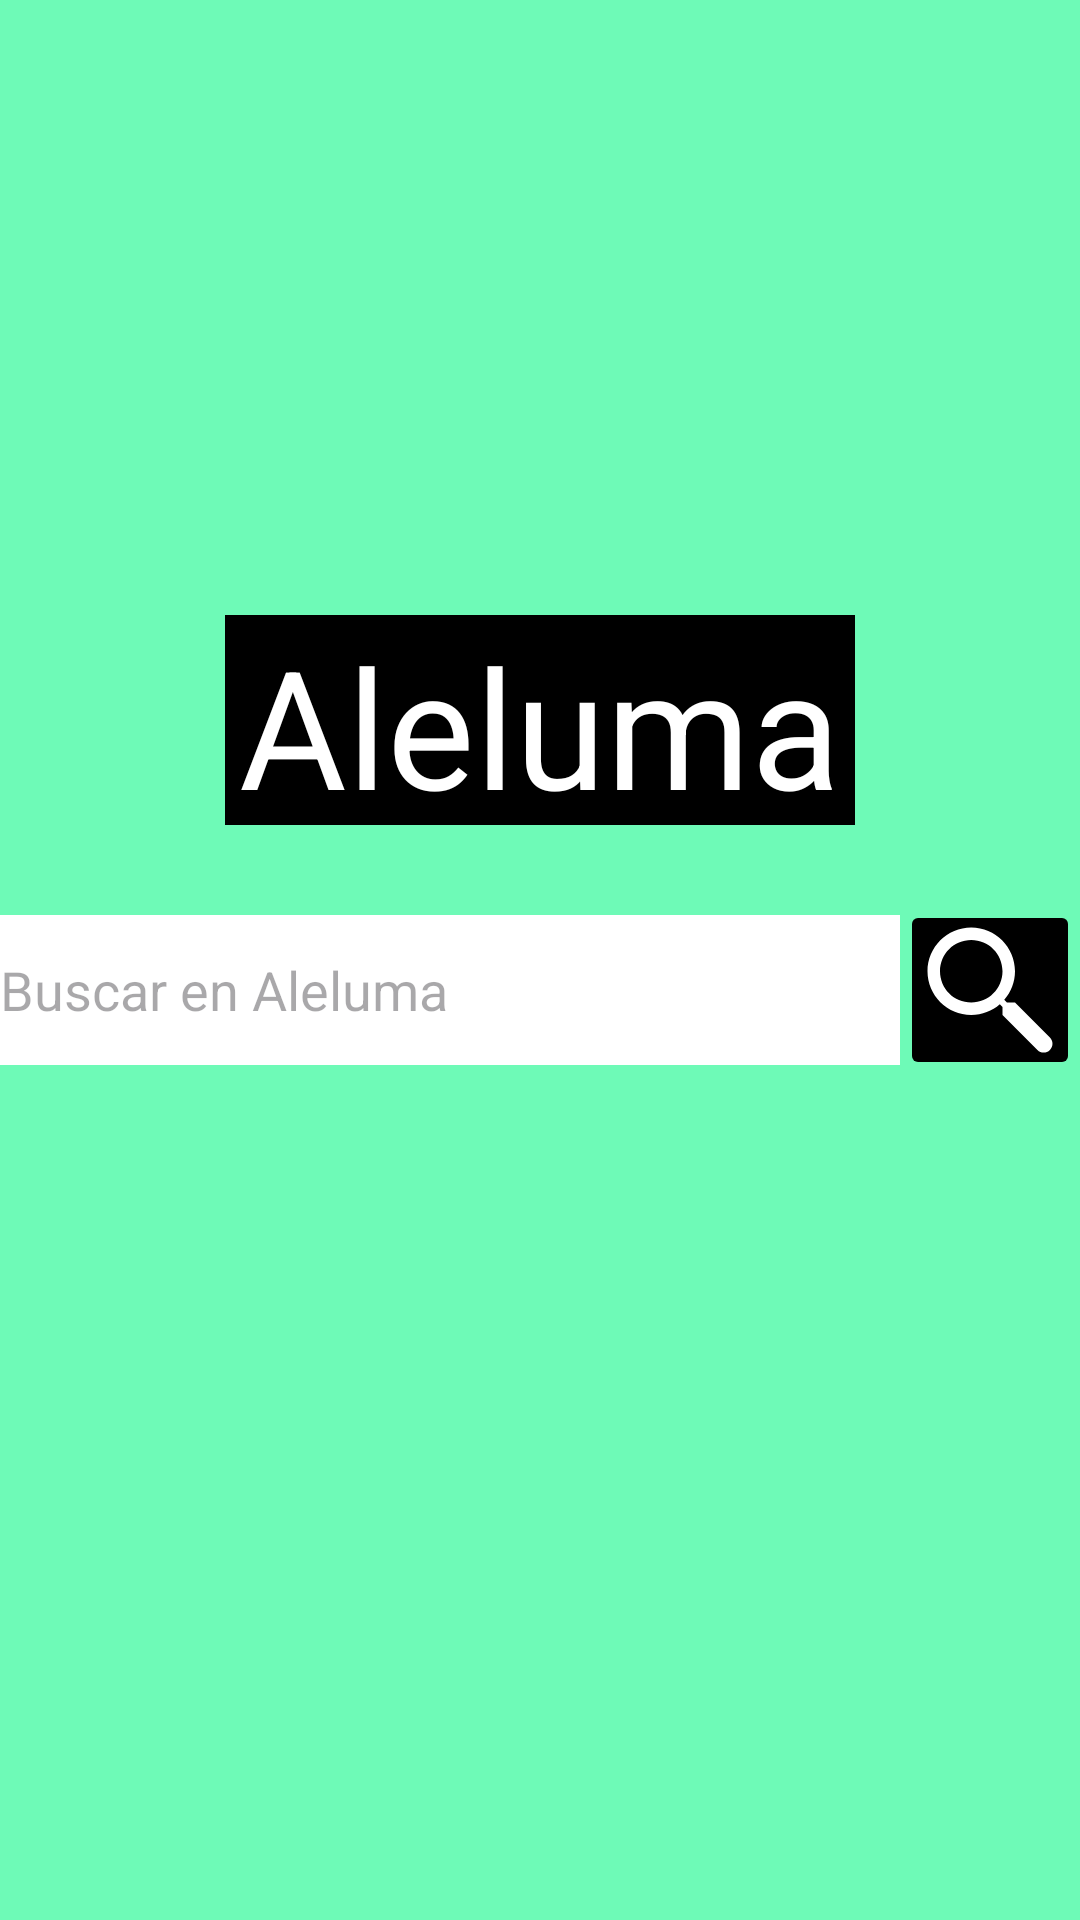

Where icons sit on this 1080 × 1920 app screen, as region(x1, y1, x2, y2):
search: region(912, 918, 1068, 1062)
